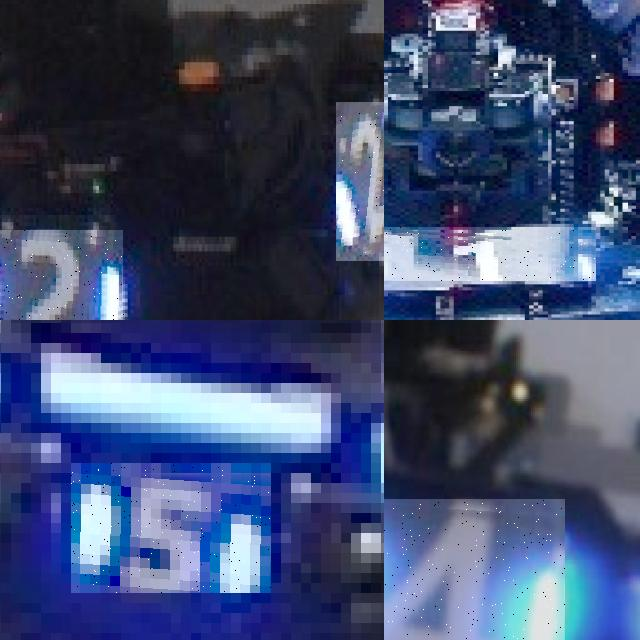B1: (384, 226, 595, 281)
B2: (336, 102, 384, 262)
B4: (384, 498, 564, 640)
B5: (71, 463, 271, 593)
R2: (0, 229, 124, 320)
